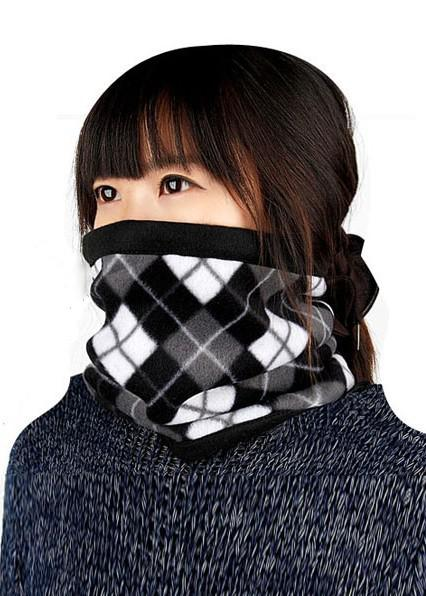WRONG: (73, 154, 248, 329)
